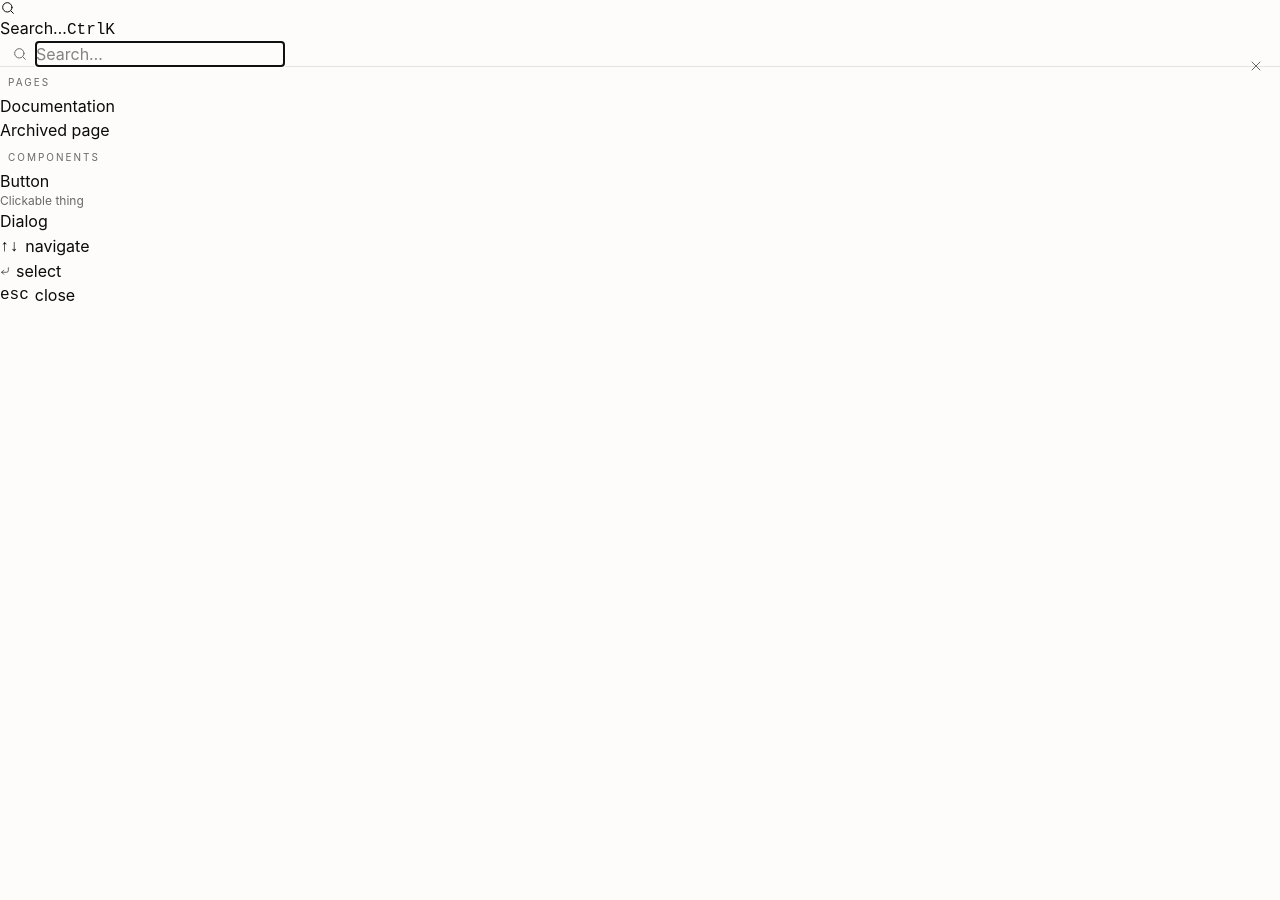
Test: SearchCommand › shows the empty text when nothing matches
Type "zzz" into the dropdown. click: point(160, 54)
box: x1=36 y1=42 x2=284 y2=66
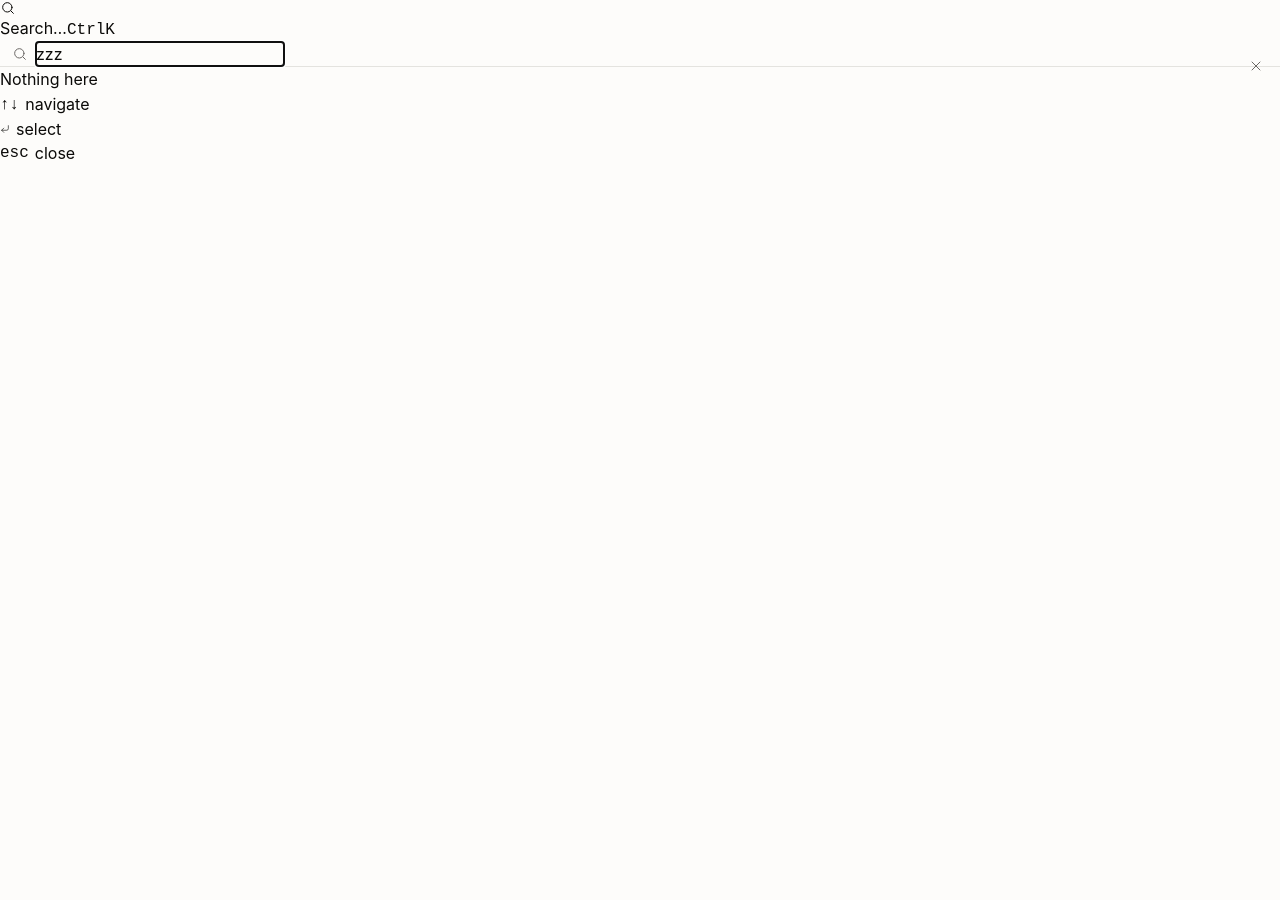
Now the message reads "Nothing here", box x1=0 y1=69 x2=98 y2=89
